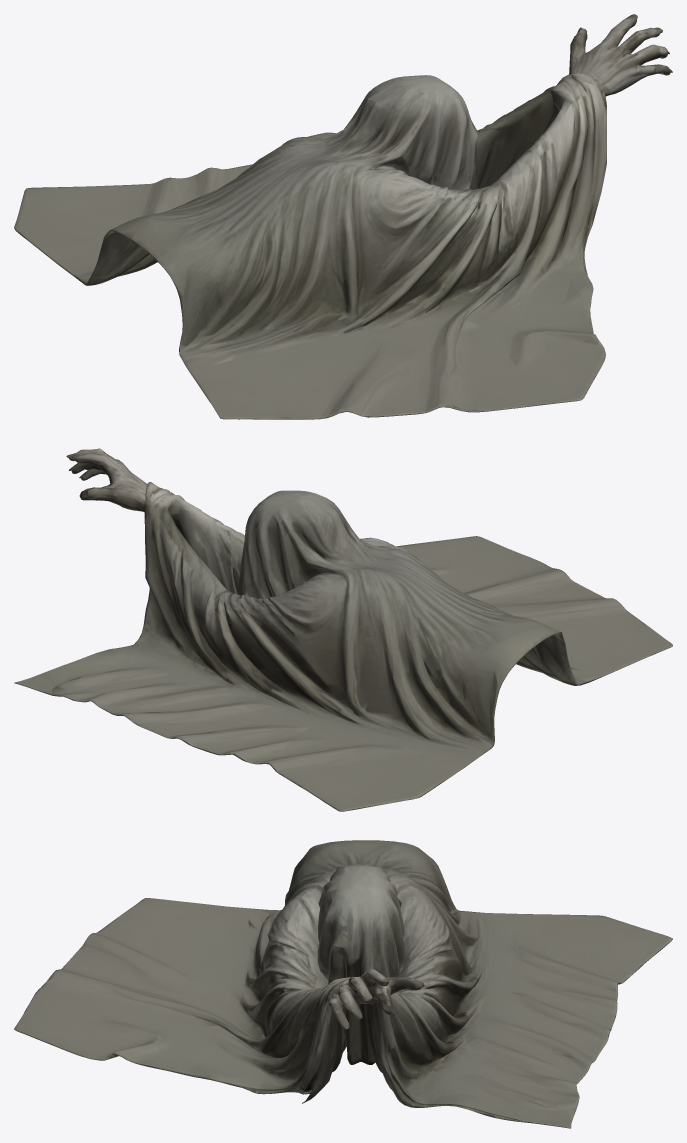
Rendered from Corpse Trying To Reach Out.fbx.
3 renders of one model, top to bottom at view 1: azimuth 30°, elevation 25°; view 2: azimuth 150°, elevation 25°; view 3: azimuth 270°, elevation 25°, orthographic. The views are drawn at different scales.
Visible parts, largest first — view 1: node_0; view 2: node_0; view 3: node_0.
Boxes of the visible parts, x1,y1,x2,y2 form: node_0: (14, 14, 672, 419); node_0: (14, 448, 672, 811); node_0: (14, 840, 672, 1128).
Size of the model in its own units: 0.7444 by 0.2331 by 0.8132.
Materials: 1 (1 with a texture image).
